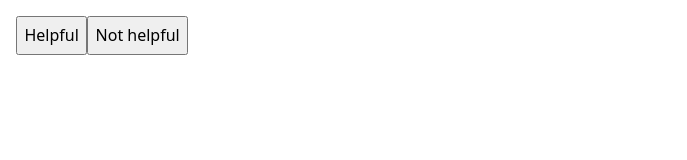
FeedbackButtons › submits the selected sentiment with an optional reason
This screenshot has width=687, height=160.
Click the button "Helpful": coordinates (52, 35) [16, 16, 87, 55]
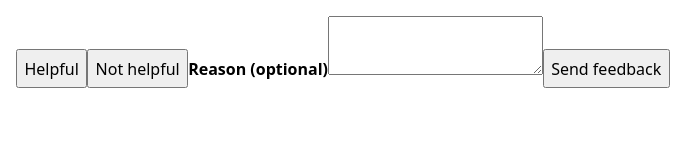
Expected: the button "Helpful" is pressed, [16, 49, 87, 88]
In the text box labelled "Reason (optional)": coordinates (435, 45) [328, 16, 543, 75], type "Clear citation"
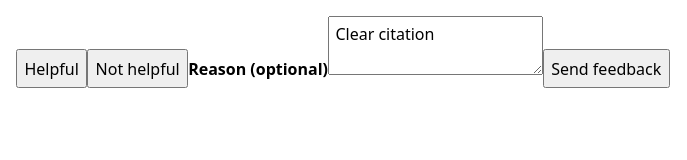
Click the button "Send feedback": coordinates (606, 69) [543, 49, 670, 88]
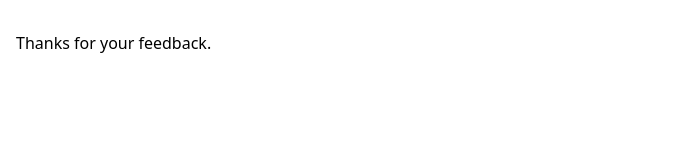
Expected: the message reads "Thanks for your feedback.", [16, 32, 211, 54]
